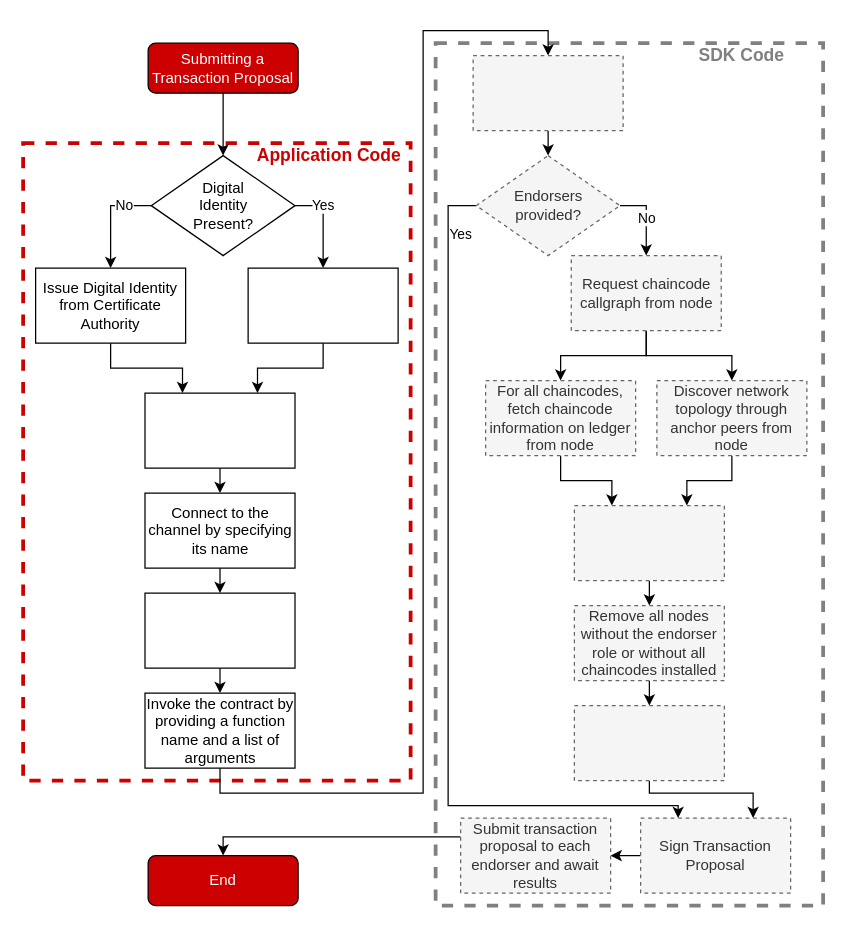
This 846x929 diagram has some shape labels left out. The shapes that lost their labels are listed below. From the top down, each one's box as (x1, y1, x2, y2) in pixels, then its label:
(472, 54, 623, 131): Construct Transaction Proposal
(247, 267, 398, 343): Retrieve Digital Identity from filesystem
(144, 392, 295, 468): Connect to the network using a gateway
(573, 504, 724, 581): Substitute endorsement policy identifiers by node endpoints
(144, 592, 295, 668): Fetch the chaincode's contract by specifying its label
(573, 704, 724, 781): Make a random selection of endorsers that satisfy the endorsement policy
